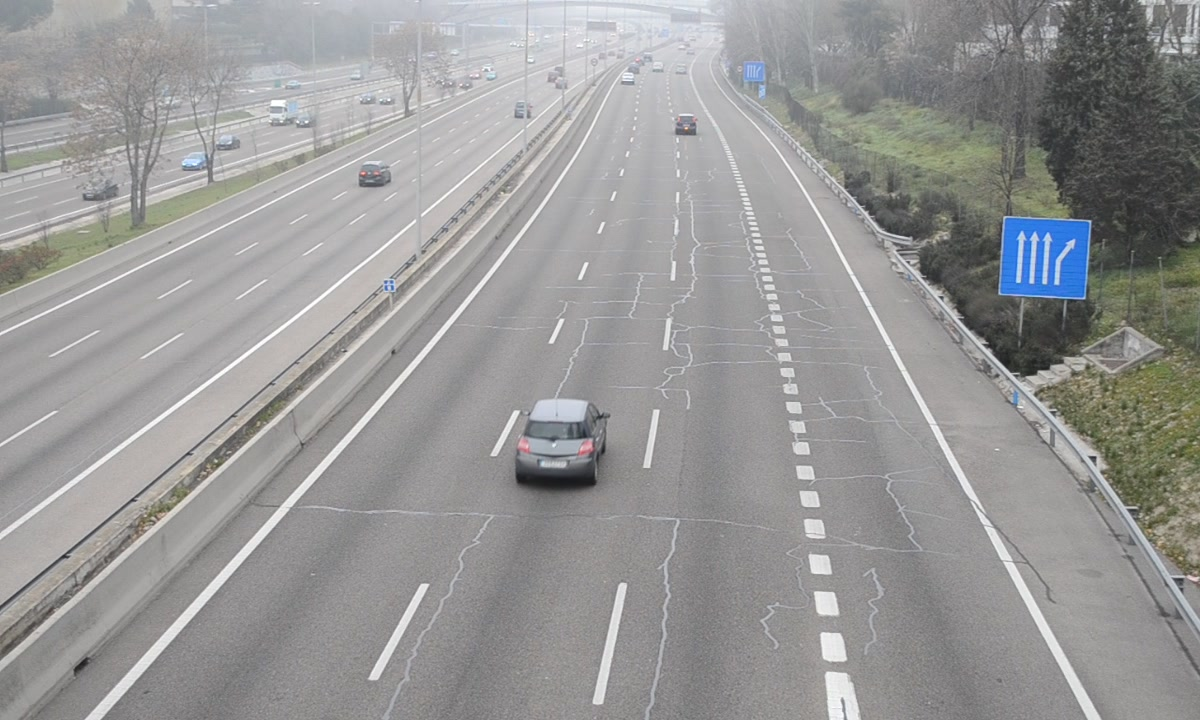car: (518, 400, 606, 484), (676, 112, 697, 137)
